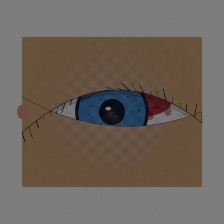hemorrhage_spot: (87, 63, 185, 141)
